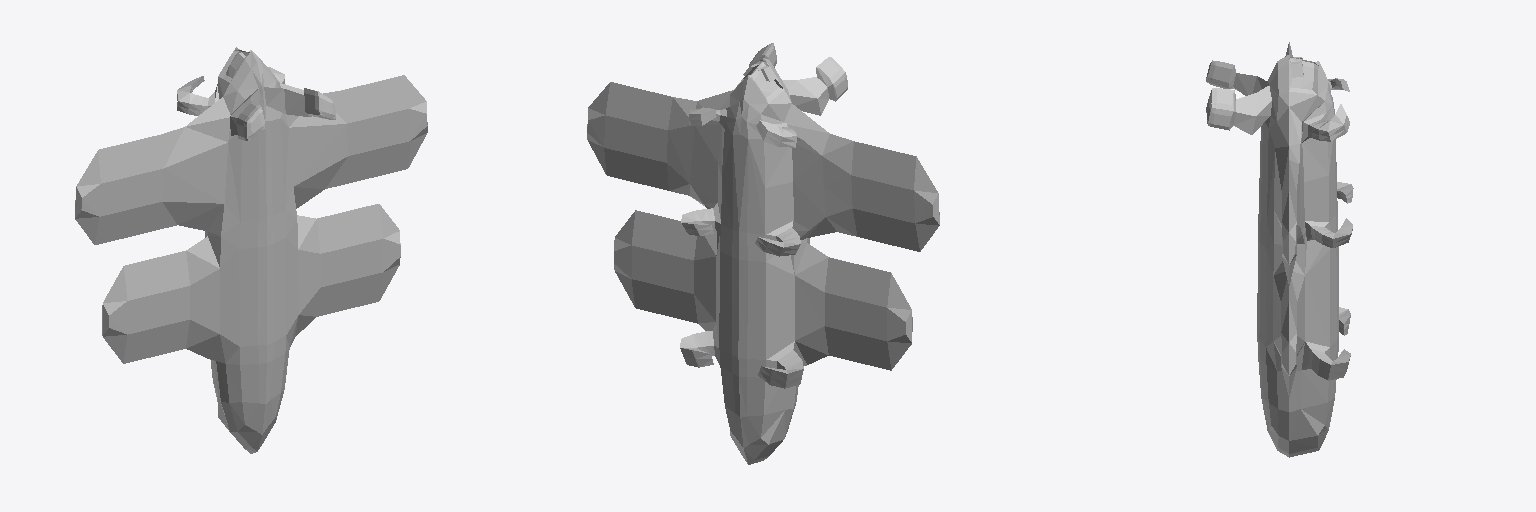
Rendered from goober.obj.
The picture shows the model from 3 angles: view 1: azimuth 30°, elevation 25°; view 2: azimuth 150°, elevation 25°; view 3: azimuth 270°, elevation 25°; orthographic projection.
Parts seen in each view (by area): view 1: Cube_Mesh; view 2: Cube_Mesh; view 3: Cube_Mesh.
Part boxes in pixels (bbox=[...]): Cube_Mesh: bbox=[75, 47, 427, 453]; Cube_Mesh: bbox=[587, 43, 939, 464]; Cube_Mesh: bbox=[1206, 42, 1353, 457].
Size of the model in its own units: 8.52 by 9.3 by 3.08.